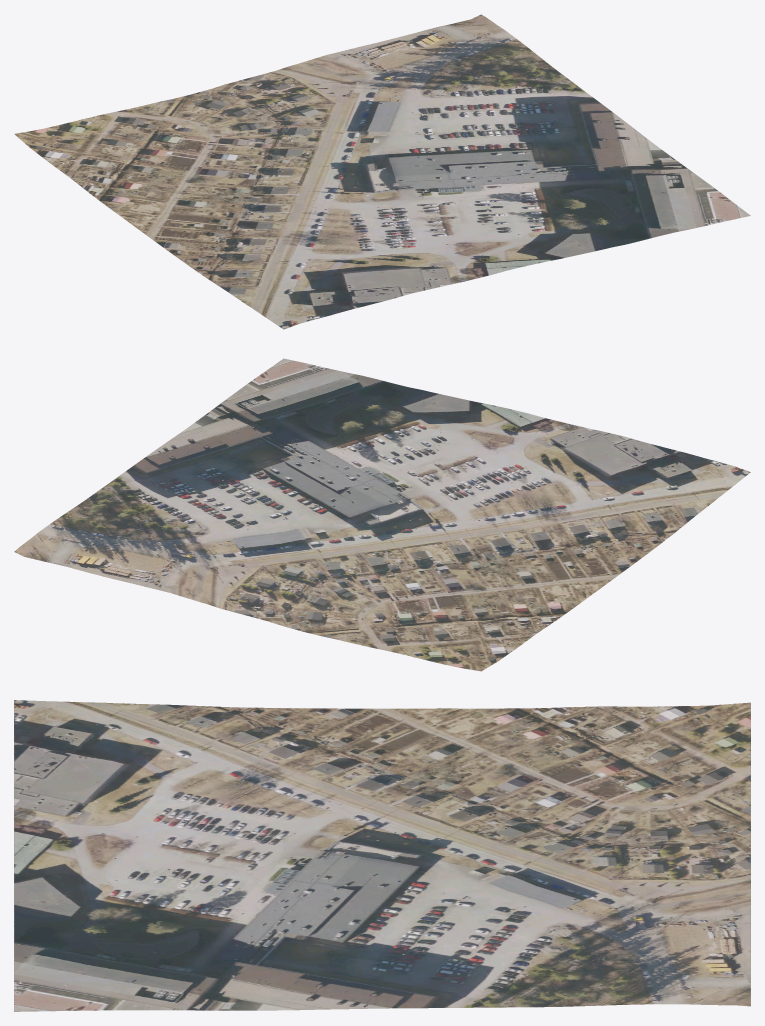
The model's file is CM_Terrain_24489639_6821636.fbx.
3 views of the same model, one above another, from view 1: azimuth 30°, elevation 25°; view 2: azimuth 150°, elevation 25°; view 3: azimuth 270°, elevation 25° (orthographic). The views are drawn at different scales.
Visible parts, largest first — view 1: CM_Terrain_24489639_6821636_LOD0; view 2: CM_Terrain_24489639_6821636_LOD0; view 3: CM_Terrain_24489639_6821636_LOD0.
Part boxes in pixels (left/top/right/bottom): CM_Terrain_24489639_6821636_LOD0: left=14, top=14, right=750, bottom=329; CM_Terrain_24489639_6821636_LOD0: left=14, top=358, right=750, bottom=671; CM_Terrain_24489639_6821636_LOD0: left=14, top=700, right=750, bottom=1011.
Size of what is drawn, in the model's own units: 205 by 4.89 by 205.
